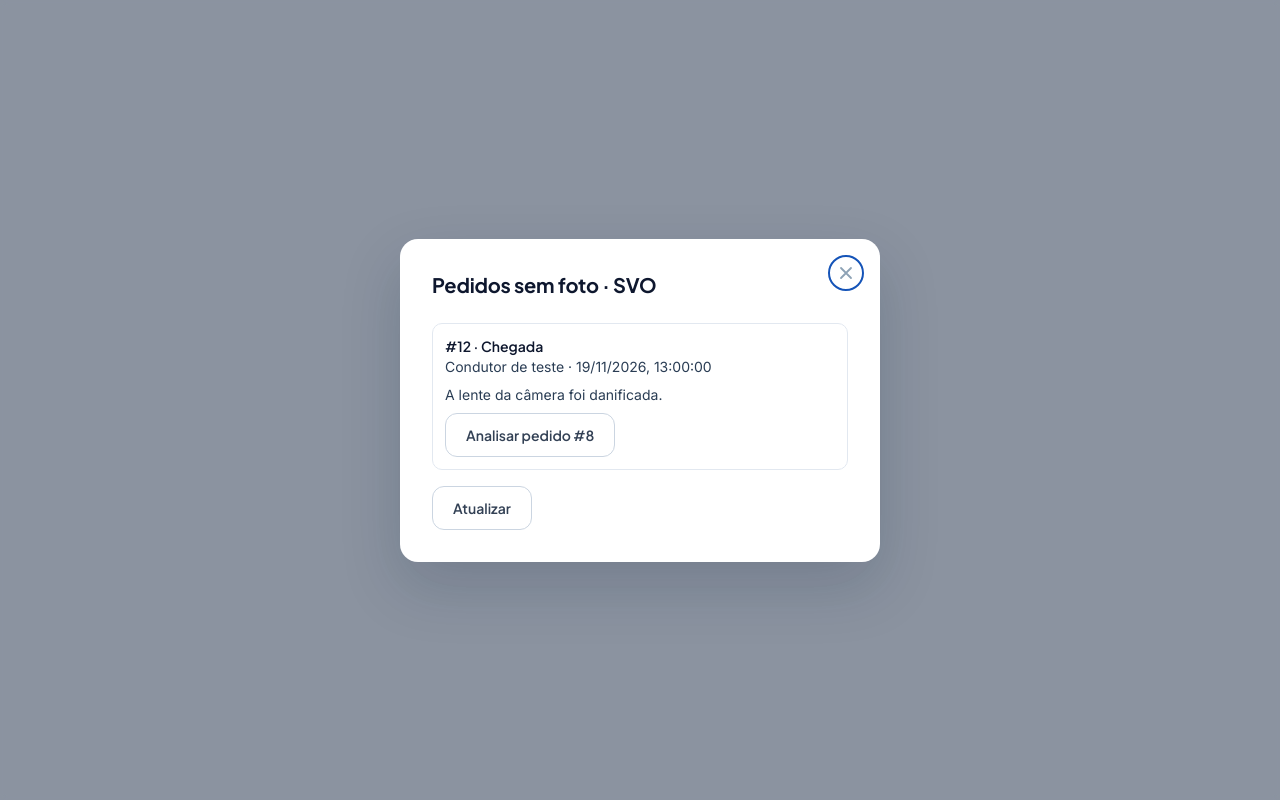
Test case: Fila gerencial de autorizações sem foto › filtra pela operação, exige justificativa e recarrega após confirmar a decisão
The width and height of the screenshot is (1280, 800).
Step 1. Click the button "Analisar pedido #8" → (530, 434), box [445,412,615,456]
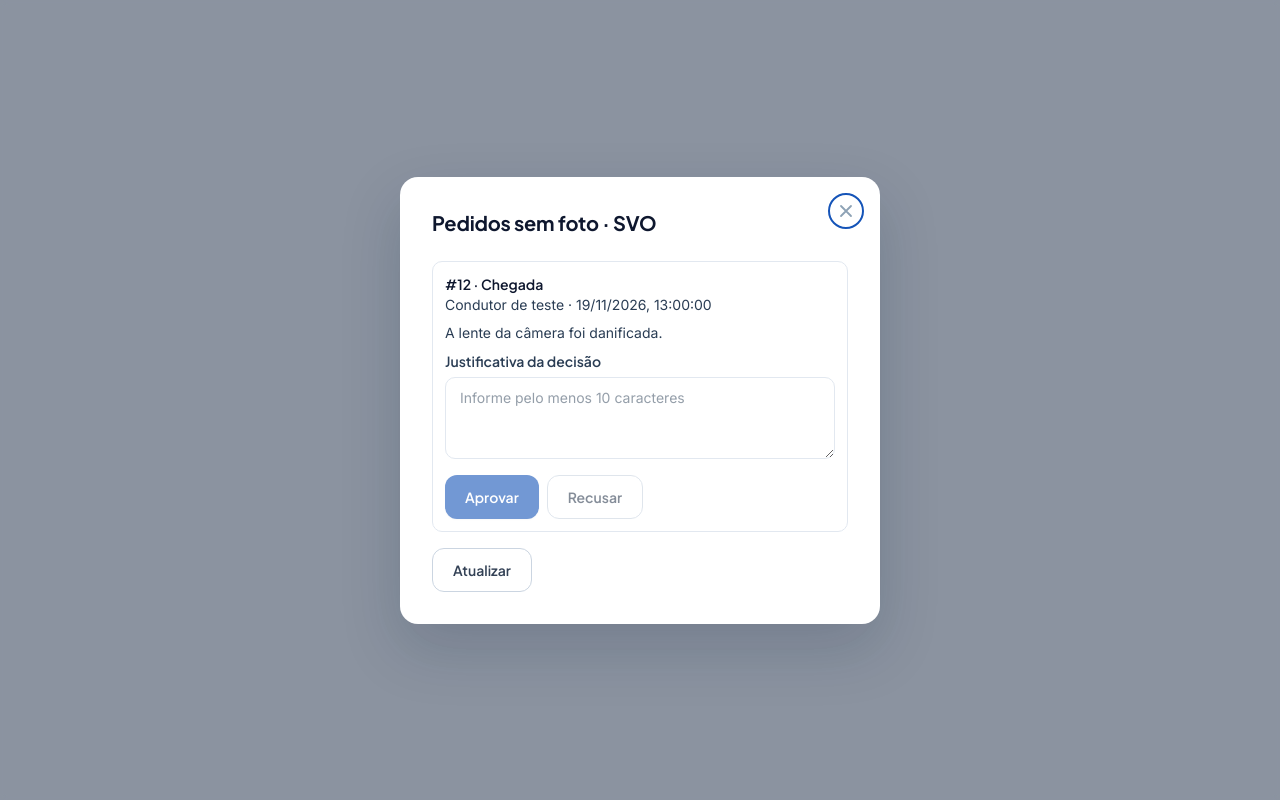
Now the button "Recusar" is disabled, box [547,474,643,518]
Step 2. Type "A câmera voltou a funcionar." into the text box labelled "Justificativa da decisão" → (640, 418), box [445,376,835,458]
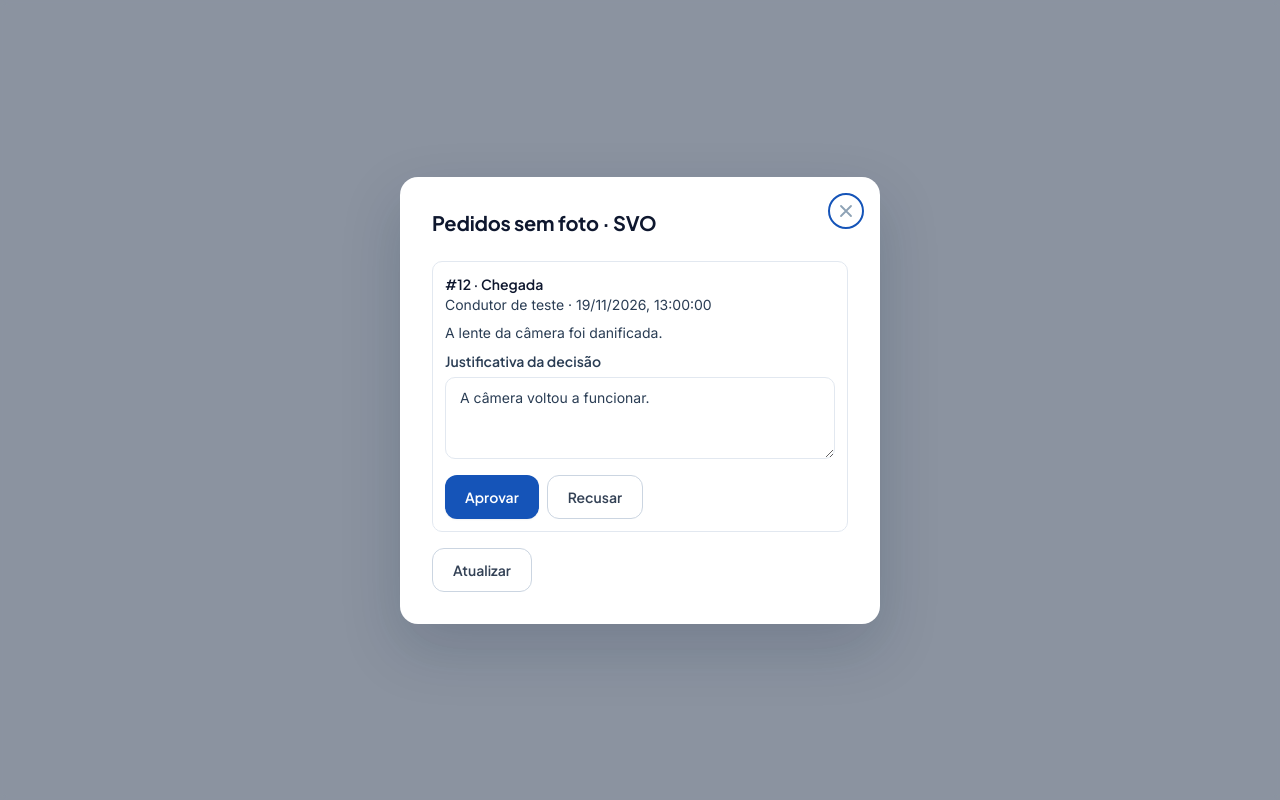
Step 3. Click the button "Recusar" → (595, 496), box [547,474,643,518]
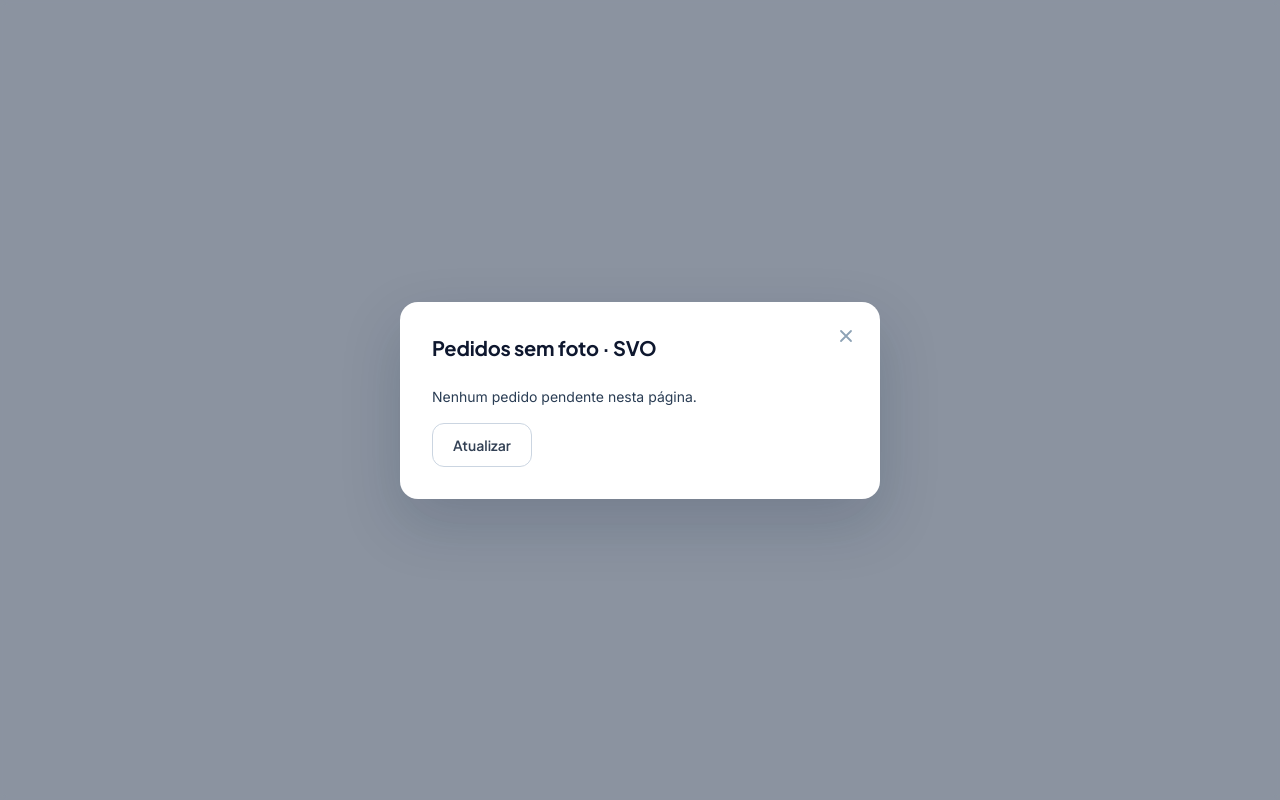
Now the text "Nenhum pedido pendente nesta página." is shown, box [432,388,697,404]
